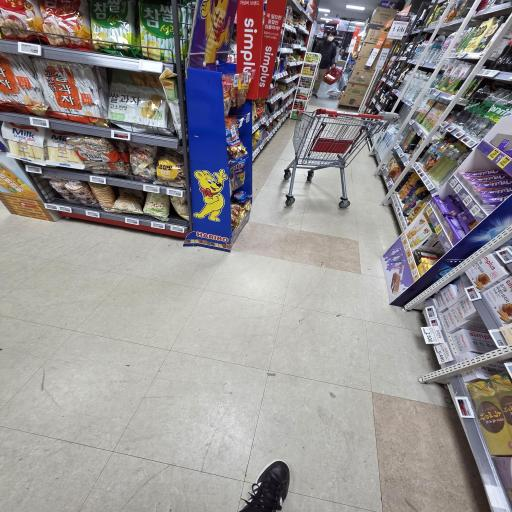empty_cart: (274, 102, 399, 213)
